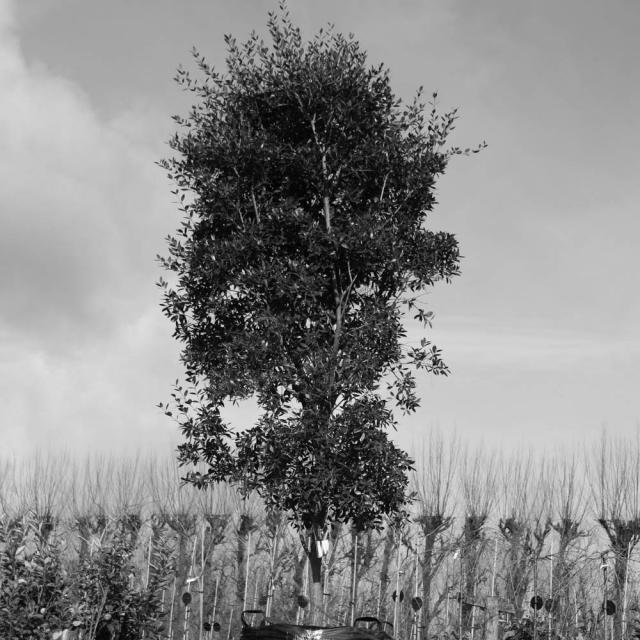Rata and Pohutukaw: (165, 69, 463, 593)
